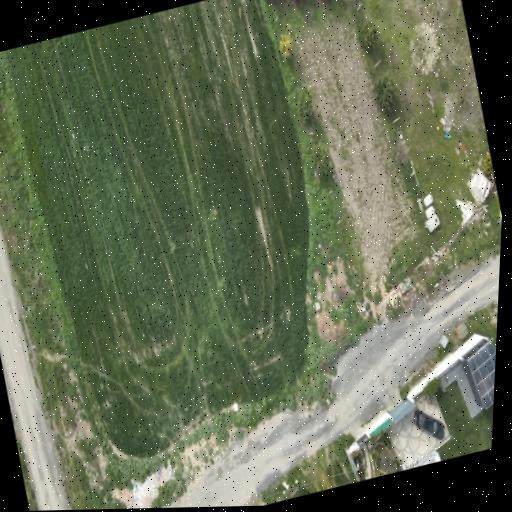car: (414, 409, 444, 439)
